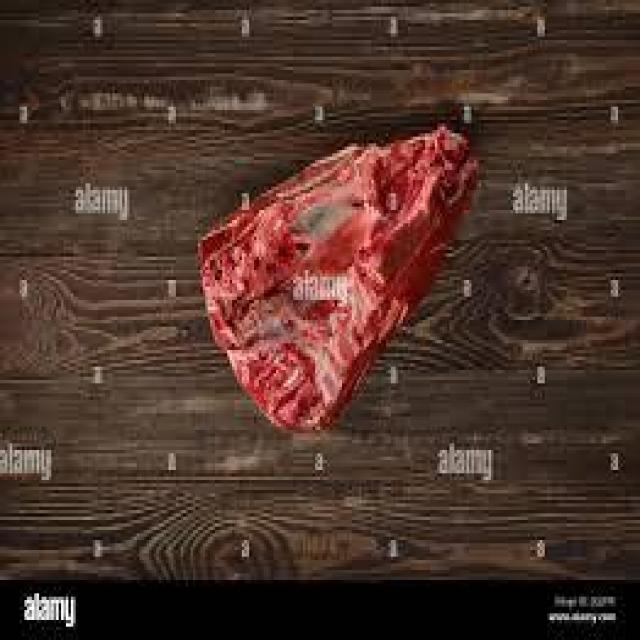beef: (354, 130, 460, 284)
